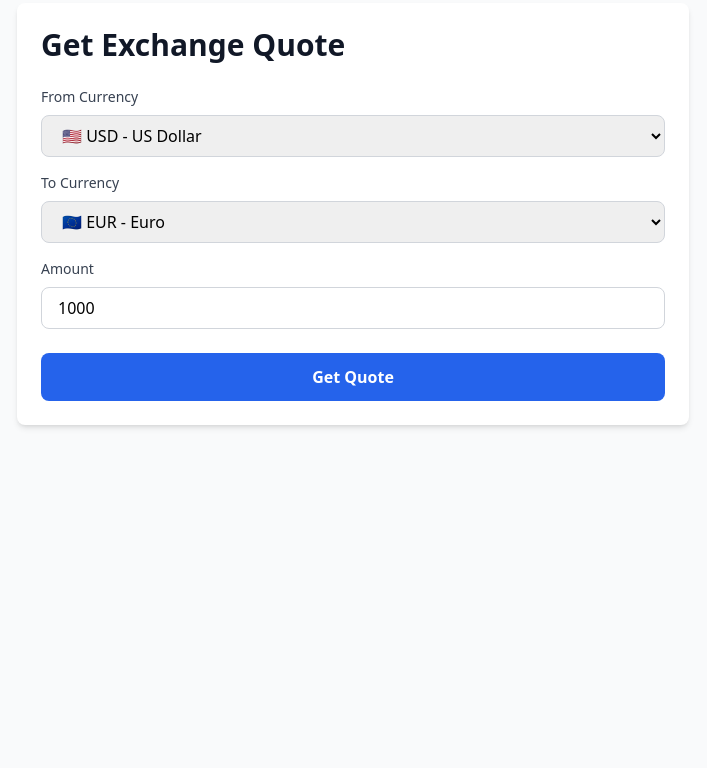
QuoteScreen › should disable continue button when quote is expired
Click the button "Get Quote" at (353, 377), box [41,353,665,401]
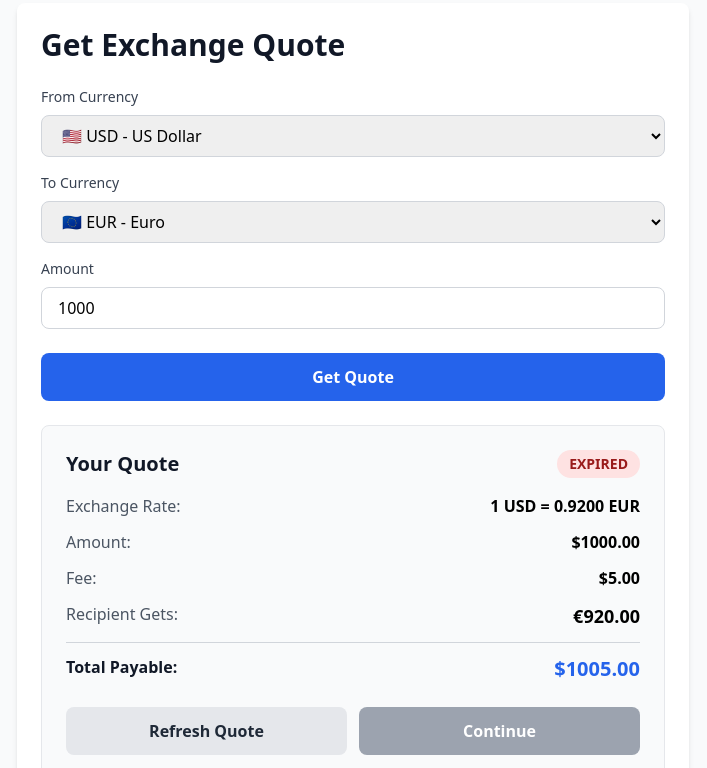
Now the button "Continue" is disabled, box [359,707,640,755]
